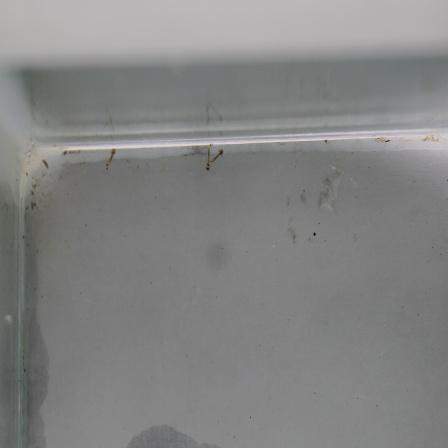Jentik-Nyamuk: (198, 140, 232, 174), (100, 146, 121, 172)
